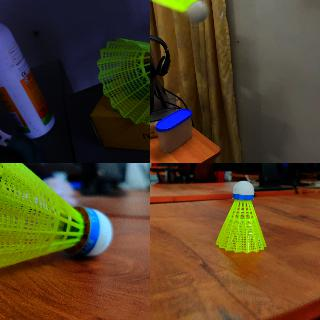shuttlecock: (0, 163, 114, 279), (97, 38, 149, 125), (215, 180, 267, 252), (150, 0, 209, 22)
